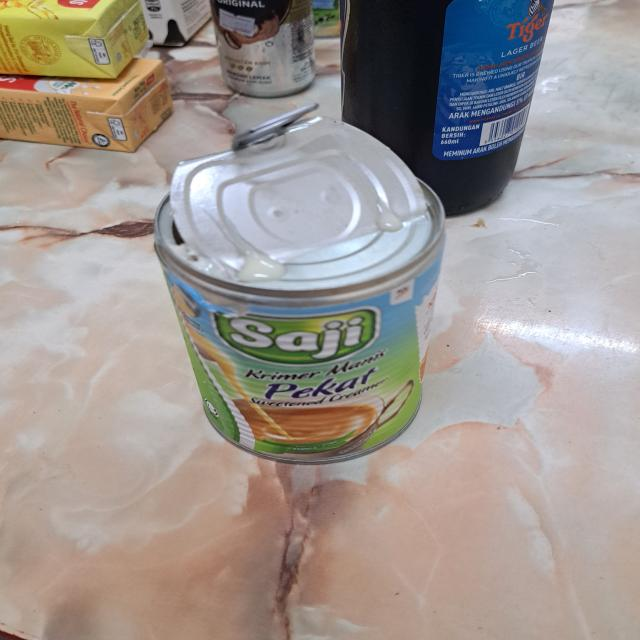can: (153, 114, 449, 466), (210, 0, 318, 99)
drink carton: (0, 57, 173, 153), (0, 0, 150, 78)
glass bottle: (337, 0, 559, 219)
pop tab: (231, 101, 319, 154)
